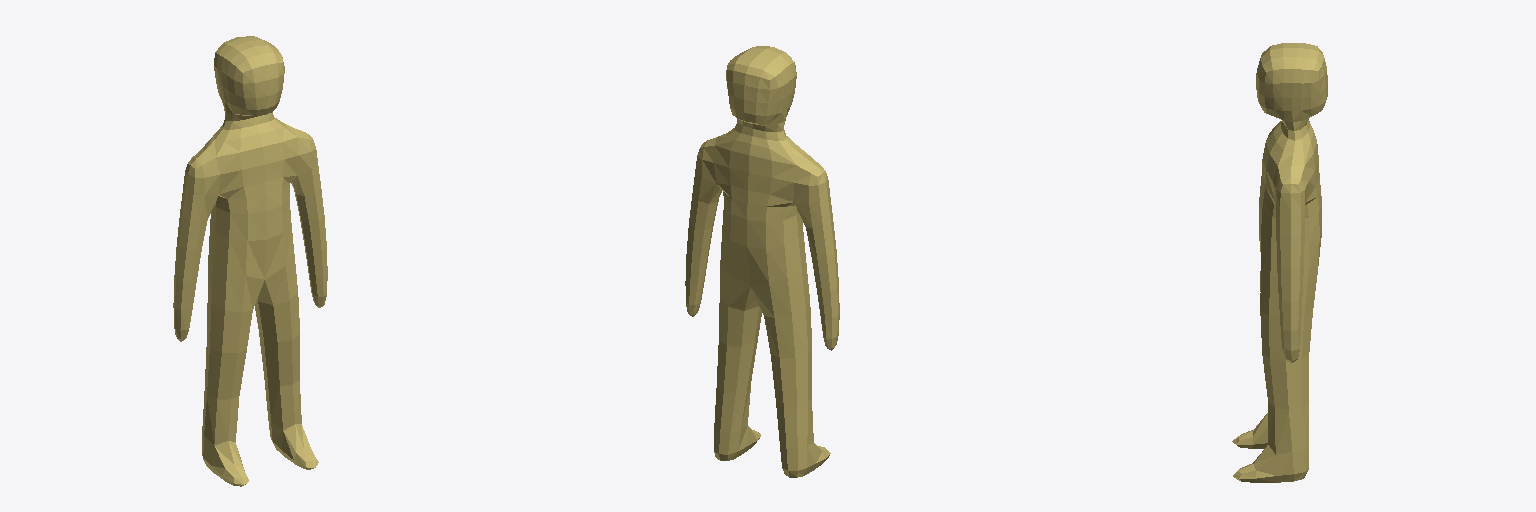
File: man.obj
The picture shows the model from 3 angles: view 1: azimuth 30°, elevation 25°; view 2: azimuth 150°, elevation 25°; view 3: azimuth 270°, elevation 25°; orthographic projection.
Parts seen in each view (by area): view 1: Cube; view 2: Cube; view 3: Cube.
Boxes of the visible parts, x1,y1,x2,y2 form: Cube: [173, 36, 327, 486]; Cube: [685, 46, 839, 477]; Cube: [1232, 43, 1327, 482].
Size of the model in its own units: 2.49 by 6.54 by 1.37.